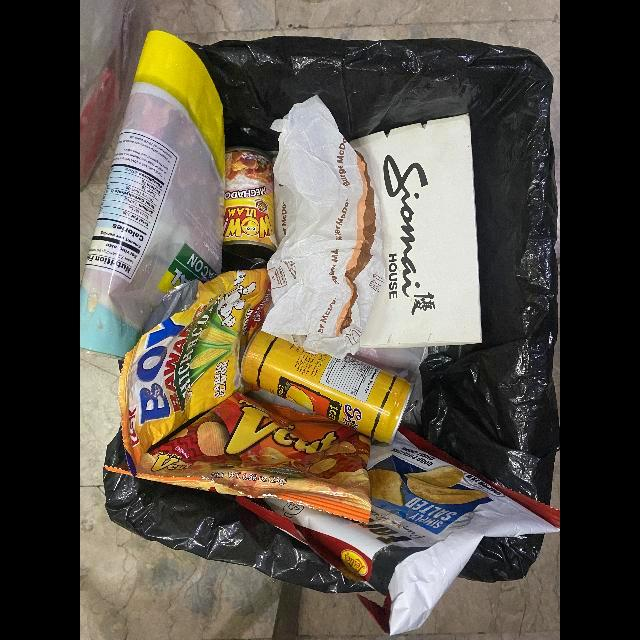aluminum: (240, 328, 411, 444), (221, 148, 278, 273)
cardboard: (350, 114, 483, 349)
food_wrapper: (236, 427, 560, 637), (80, 31, 226, 360), (104, 393, 372, 526), (119, 268, 273, 466)
paper: (261, 95, 383, 361)
